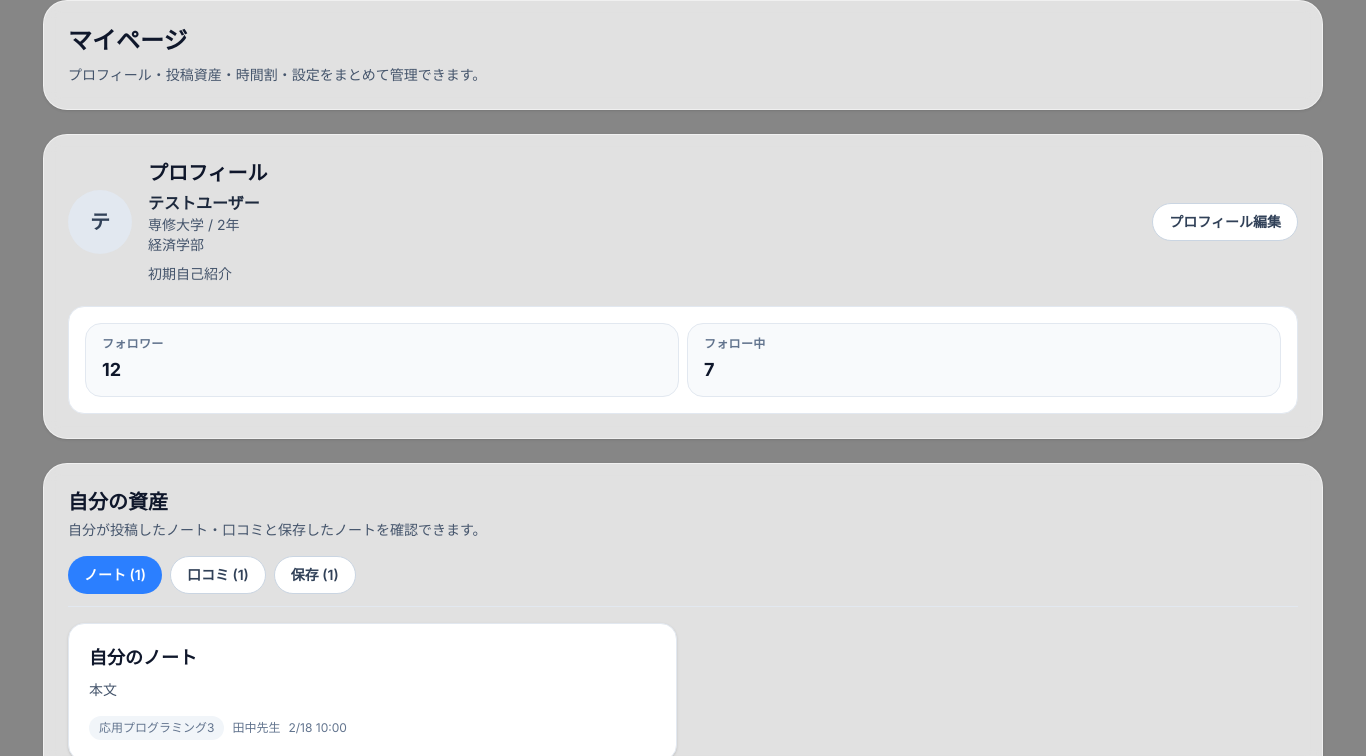
Test: MePage › shows deduplicated saved notes with like/bookmark badges in saved tab
The width and height of the screenshot is (1366, 756).
Click the button "保存 (1)".
click(315, 575)  # box [274, 556, 356, 594]
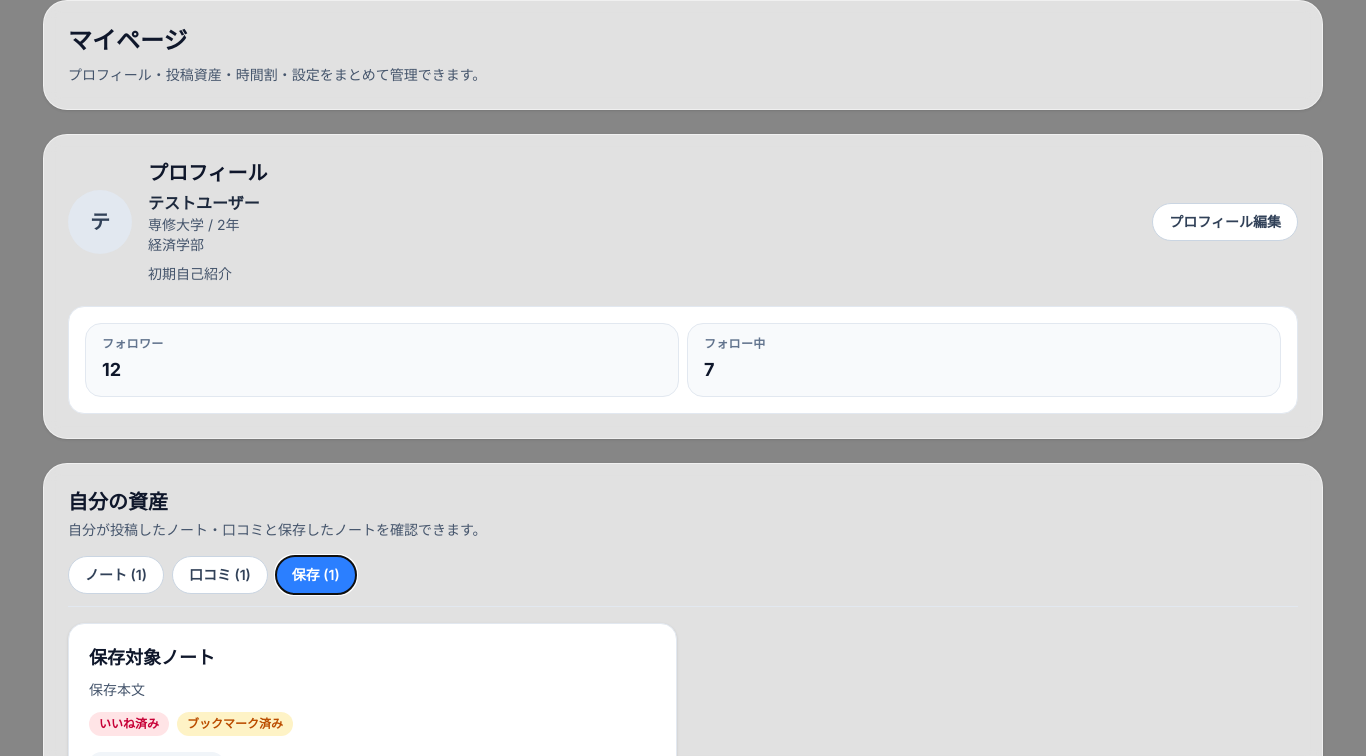
Result: the heading "保存対象ノート" is shown at [89, 647, 215, 668]
Result: the text "いいね済み" is shown at [89, 712, 169, 736]
Result: the text "ブックマーク済み" is shown at [177, 712, 293, 736]
